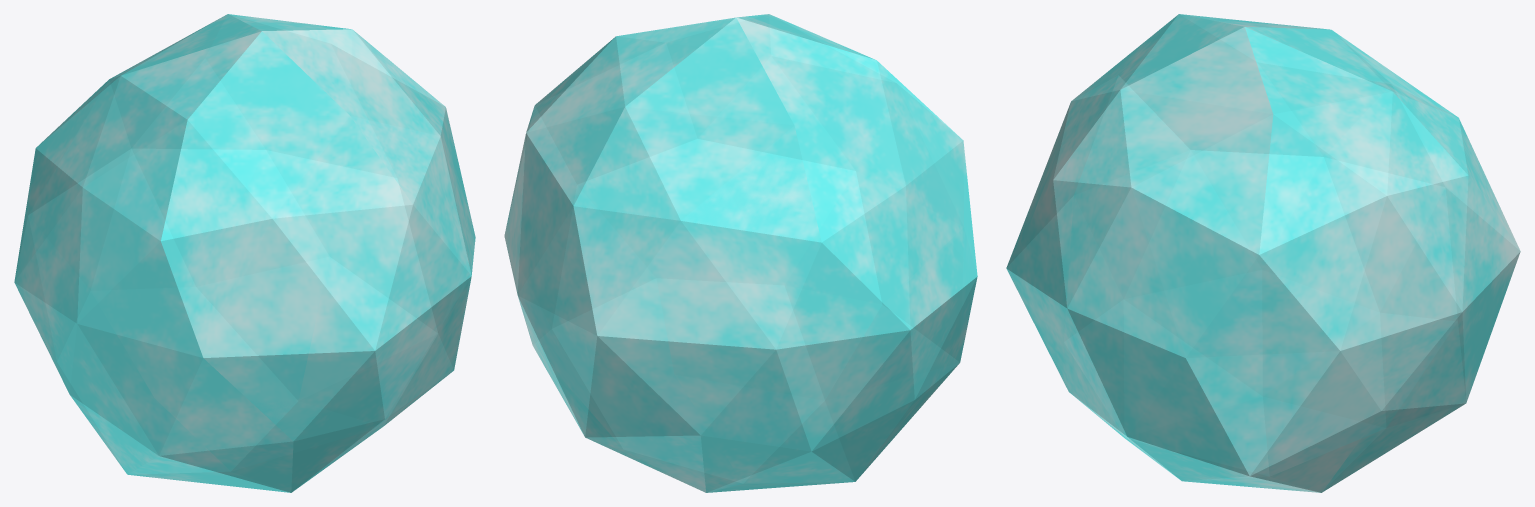
File: IceLarge1.fbx
3 renders of one model, left to right at view 1: azimuth 30°, elevation 25°; view 2: azimuth 150°, elevation 25°; view 3: azimuth 270°, elevation 25°, orthographic. The views are drawn at different scales.
Parts seen in each view (by area): view 1: Cube; view 2: Cube; view 3: Cube.
Boxes of the visible parts, x1,y1,x2,y2 form: Cube: (14, 14, 475, 492); Cube: (504, 14, 977, 492); Cube: (1006, 14, 1520, 492).
Size of the model in its own units: 27.25 by 28.82 by 29.24.
